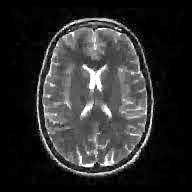Normal_Brain: (3, 1, 192, 192)
